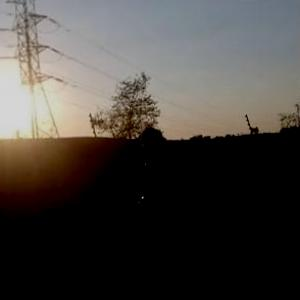follow: (120, 124, 193, 299)
